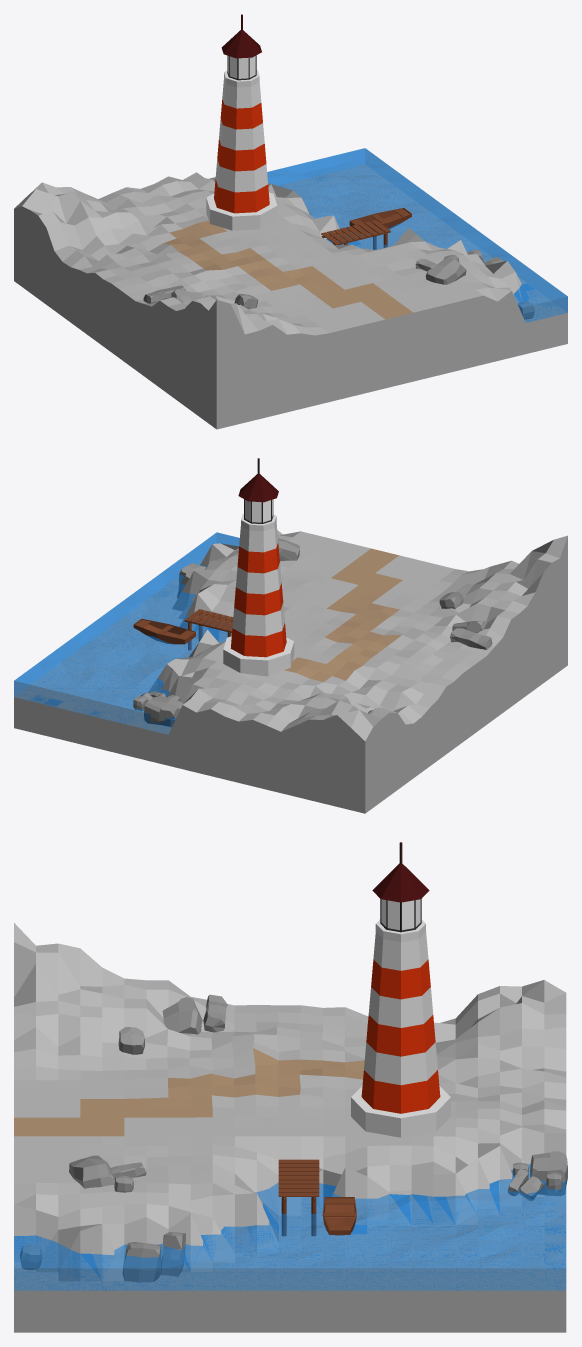
The picture shows the model from 3 angles, top to bottom: view 1: azimuth 30°, elevation 25°; view 2: azimuth 150°, elevation 25°; view 3: azimuth 270°, elevation 25°; orthographic projection. The views are drawn at different scales.
Visible parts, largest first — view 1: Land, Sea, Lighthouse, Road, Base.001, Pier, Rock.004, Boat; view 2: Land, Sea, Lighthouse, Road, Base.001, Rock.001, Boat, Pier, Rock.010; view 3: Land, Sea, Lighthouse, Road, Base.001, Pier, Rock.003, Rock.004, Rock.014, Rock.001, Rock.011, Boat (+2 smaller).
Boxes of the visible parts, x1=… form: Land: x1=14, y1=164, x2=567, y2=429; Sea: x1=267, y1=148, x2=567, y2=322; Lighthouse: x1=214, y1=14, x2=269, y2=213; Road: x1=163, y1=221, x2=412, y2=319; Base.001: x1=206, y1=192, x2=277, y2=230; Pier: x1=321, y1=220, x2=390, y2=244; Rock.004: x1=425, y1=258, x2=466, y2=284; Boat: x1=349, y1=208, x2=411, y2=232; Land: x1=14, y1=530, x2=567, y2=813; Sea: x1=14, y1=532, x2=239, y2=734; Lighthouse: x1=230, y1=458, x2=286, y2=657; Road: x1=284, y1=548, x2=402, y2=681; Base.001: x1=223, y1=636, x2=294, y2=676; Rock.001: x1=144, y1=696, x2=183, y2=726; Boat: x1=133, y1=618, x2=195, y2=644; Pier: x1=184, y1=609, x2=233, y2=631; Rock.010: x1=450, y1=628, x2=492, y2=649; Land: x1=14, y1=923, x2=566, y2=1332; Sea: x1=14, y1=1163, x2=566, y2=1290; Lighthouse: x1=361, y1=842, x2=440, y2=1113; Road: x1=14, y1=1048, x2=364, y2=1136; Base.001: x1=351, y1=1085, x2=450, y2=1137; Pier: x1=278, y1=1159, x2=319, y2=1196; Rock.003: x1=122, y1=1242, x2=161, y2=1282; Rock.004: x1=69, y1=1155, x2=114, y2=1188; Rock.014: x1=162, y1=997, x2=202, y2=1034; Rock.001: x1=530, y1=1151, x2=567, y2=1196; Rock.011: x1=160, y1=1232, x2=185, y2=1276; Boat: x1=322, y1=1197, x2=356, y2=1235.
Size of what is drawn, in the model's own units: 8.01 by 5.88 by 8.03.
